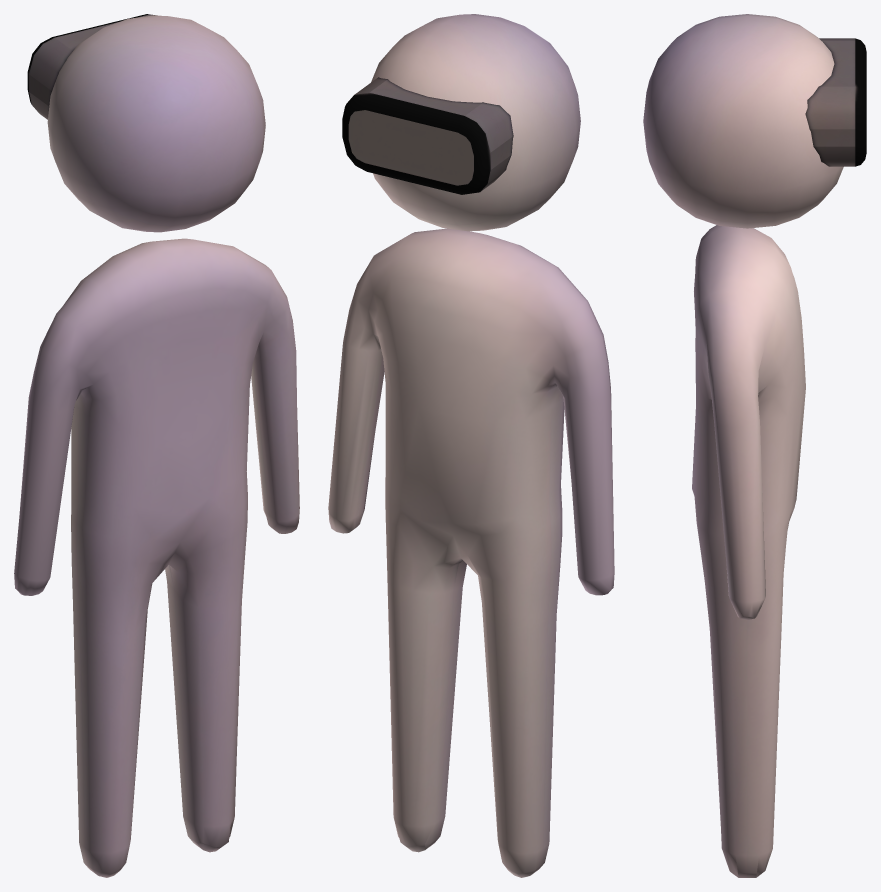
The model's file is avatar.fbx.
The picture shows the model from 3 angles, left to right: view 1: azimuth 30°, elevation 25°; view 2: azimuth 150°, elevation 25°; view 3: azimuth 270°, elevation 25°; orthographic projection.
Parts seen in each view (by area): view 1: Body, Head, VR_Goggle; view 2: Body, Head, VR_Goggle; view 3: Body, Head, VR_Goggle.
Part boxes in pixels (x1,y1,x2,y2): Body: [14, 238, 299, 877]; Head: [47, 15, 265, 232]; VR_Goggle: [27, 14, 157, 119]; Body: [328, 228, 614, 877]; Head: [371, 14, 580, 231]; VR_Goggle: [342, 77, 513, 194]; Body: [692, 225, 805, 877]; Head: [643, 14, 843, 228]; VR_Goggle: [805, 38, 866, 166].
Bounding box in the file's own units: 55.69 × 158 × 38.78.
Materials: 1 (1 with a texture image).
